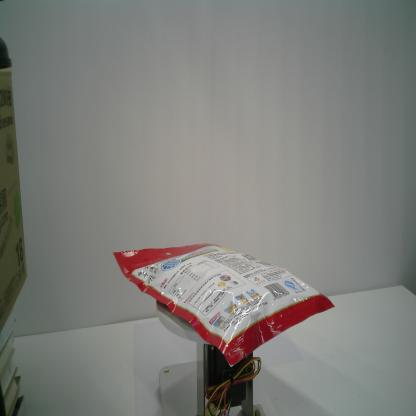Instant Drink: (111, 241, 336, 367)
